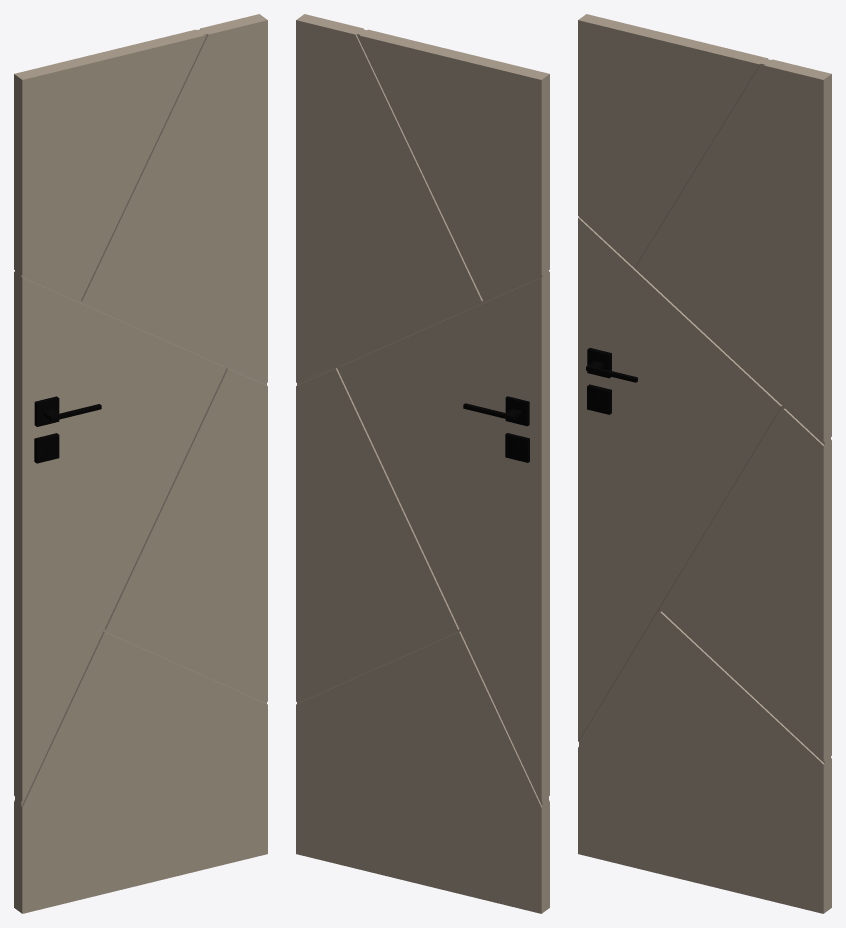
File: RP_1_full2_door.glb
The picture shows the model from 3 angles, left to right: view 1: azimuth 30°, elevation 25°; view 2: azimuth 150°, elevation 25°; view 3: azimuth 330°, elevation 25°; orthographic projection.
Parts seen in each view (by area): view 1: RP_1__2_DT_32_door_1; view 2: RP_1__2_DT_32_door_1; view 3: RP_1__2_DT_32_door_1.
Part boxes in pixels (x1,y1,x2,y2): RP_1__2_DT_32_door_1: (14, 14, 267, 913); RP_1__2_DT_32_door_1: (296, 14, 549, 913); RP_1__2_DT_32_door_1: (578, 14, 831, 913).
Bounding box in the file's own units: 0.5478 × 1.78 × 0.1117.
Materials: 1 (1 with a texture image).
